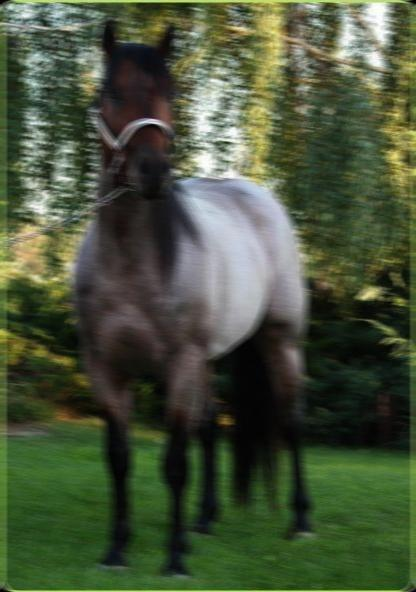horse: (66, 13, 314, 578)
